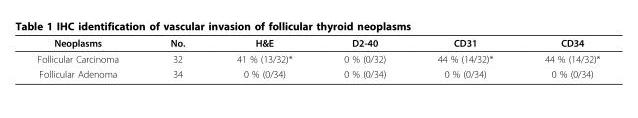table: (36, 36, 599, 79)
table column: (36, 36, 143, 79), (210, 36, 317, 79), (411, 36, 518, 79), (317, 36, 411, 79), (518, 36, 599, 79), (143, 36, 210, 79)
table column header: (36, 36, 599, 50)
table row: (36, 50, 599, 66), (36, 36, 599, 50), (36, 66, 599, 79)
